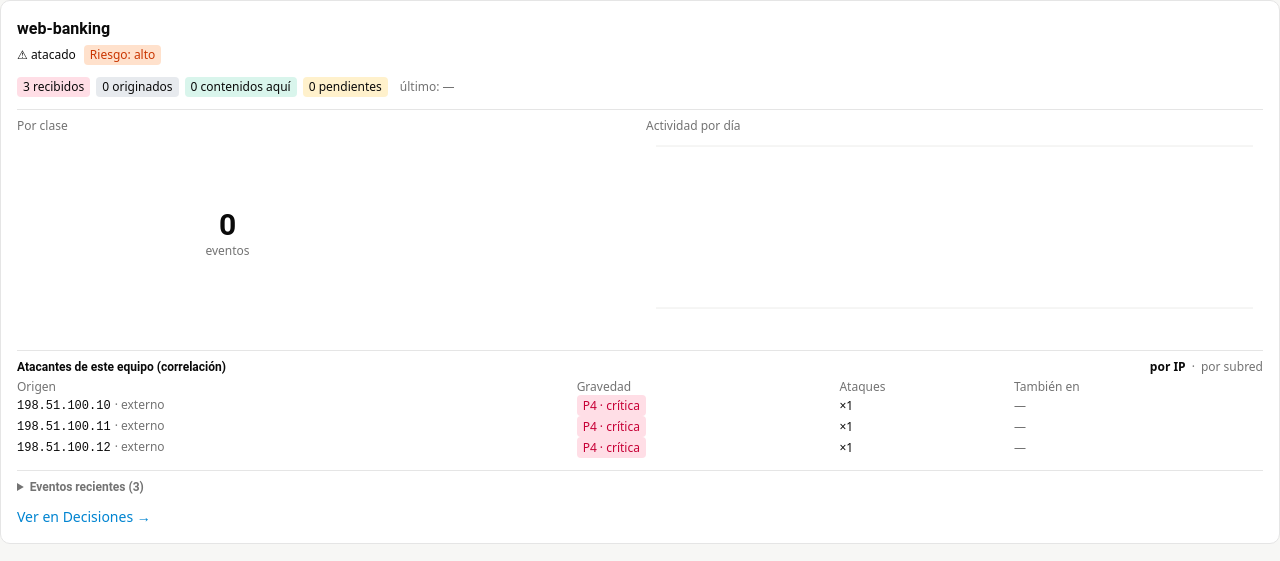
Scenario: PanelEquipo — subred y pivote del pie › agrupa los atacantes por subred con el conmutador
Click the button "por subred".
click(1232, 367)  # box [1201, 359, 1263, 375]
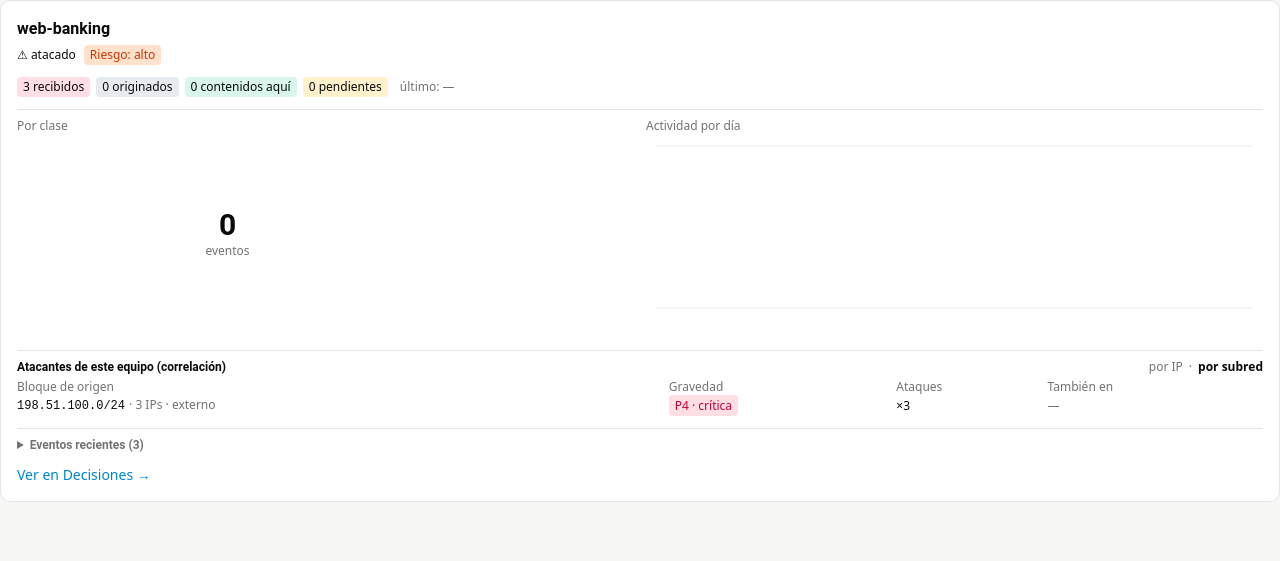
expect the text "198.51.100.0/24" is shown: met, box [17, 399, 125, 413]
expect the text "· 3 IPs · externo" is shown: met, box [129, 396, 216, 413]
